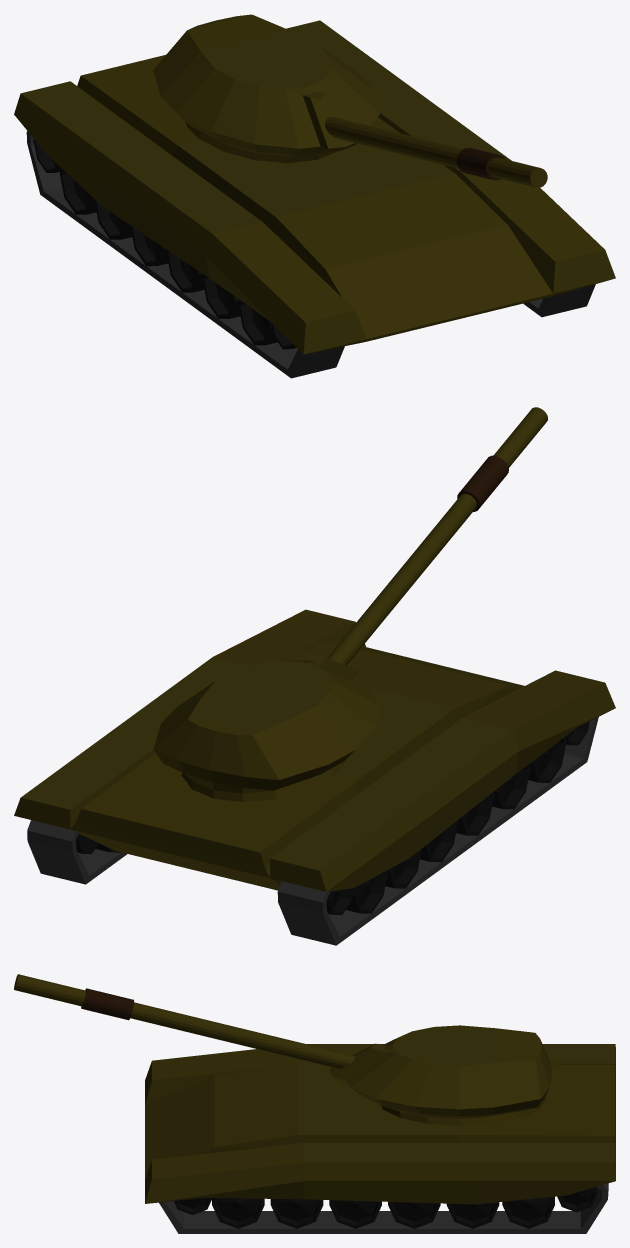
3 renders of one model, top to bottom at view 1: azimuth 30°, elevation 25°; view 2: azimuth 150°, elevation 25°; view 3: azimuth 270°, elevation 25°, orthographic. The views are drawn at different scales.
Parts seen in each view (by area): view 1: t64, t64_head; view 2: t64, t64_head; view 3: t64, t64_head.
Part boxes in pixels (x1,y1,x2,y2): t64: (14, 20, 615, 378); t64_head: (153, 14, 547, 187); t64: (14, 609, 615, 945); t64_head: (153, 407, 547, 801); t64: (145, 1044, 615, 1233); t64_head: (14, 974, 552, 1125).
Size of the model in its own units: 1000 by 754 by 2053.
